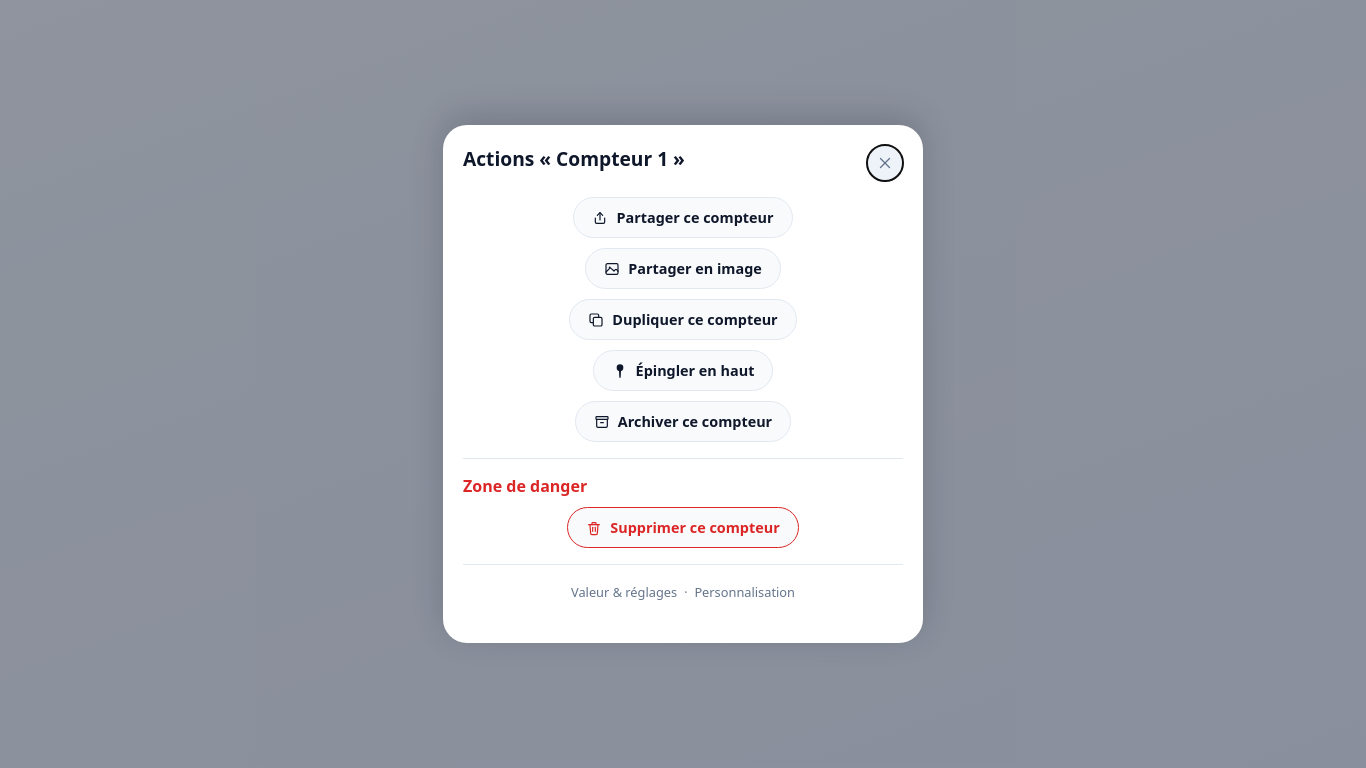
Test: CounterActionsPanel › partage en image › affiche un état de génération pendant la création du visuel
Click the button "Partager en image" at (683, 268), box [585,248,781,289]
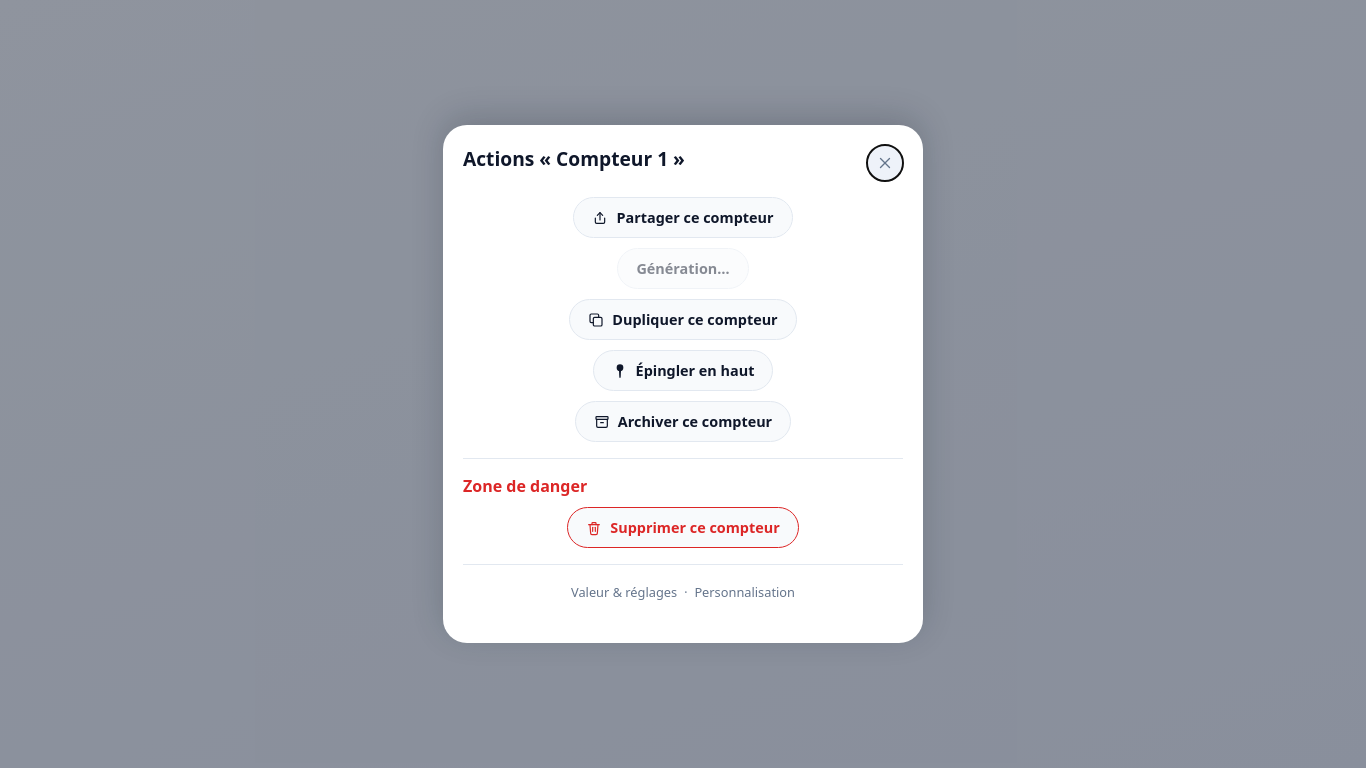
expect the button "Génération…" is shown: met, box [617,248,748,289]
